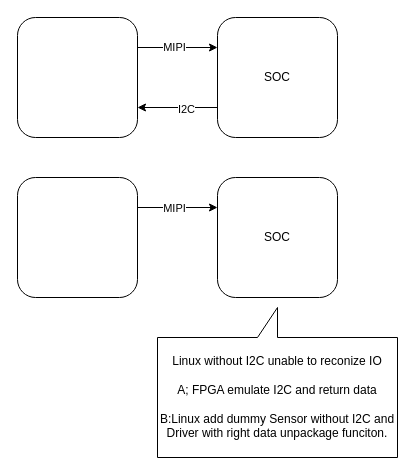
Some shapes in this 415 by 475 pixel diagram are drawn without their labels. The shapes that lost their labels are listed below. From the top down, each one's centre as x and y in pixels, then its label:
[77,77]: CCD with MIPI
[77,237]: FPGA with MIPI
